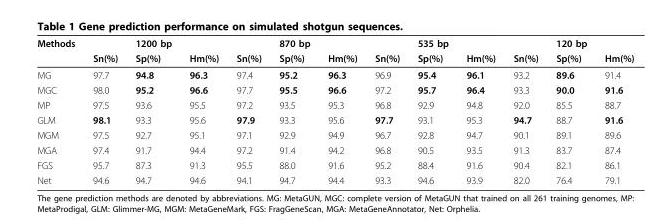table: (36, 37, 633, 185)
table column: (125, 37, 179, 185), (269, 37, 318, 185), (546, 37, 595, 185), (408, 37, 456, 185), (36, 37, 83, 185), (179, 37, 226, 185), (318, 37, 365, 185), (456, 37, 503, 185), (226, 37, 269, 185), (365, 37, 408, 185), (503, 37, 546, 185), (83, 37, 125, 185), (595, 37, 633, 185)
table column header: (36, 37, 633, 66)
table row: (36, 50, 633, 66), (36, 81, 633, 97), (36, 66, 633, 81), (36, 97, 633, 112), (36, 112, 633, 127), (36, 127, 633, 142), (36, 142, 633, 157), (36, 157, 633, 172), (36, 37, 633, 50), (36, 172, 633, 185)
table spanning cell: (125, 37, 179, 66), (269, 37, 318, 66), (546, 37, 595, 66), (408, 37, 456, 66), (36, 37, 83, 66), (179, 37, 226, 66), (318, 37, 365, 66), (456, 37, 503, 66), (226, 37, 269, 66), (365, 37, 408, 66), (503, 37, 546, 66), (83, 37, 125, 66), (595, 37, 633, 66)
